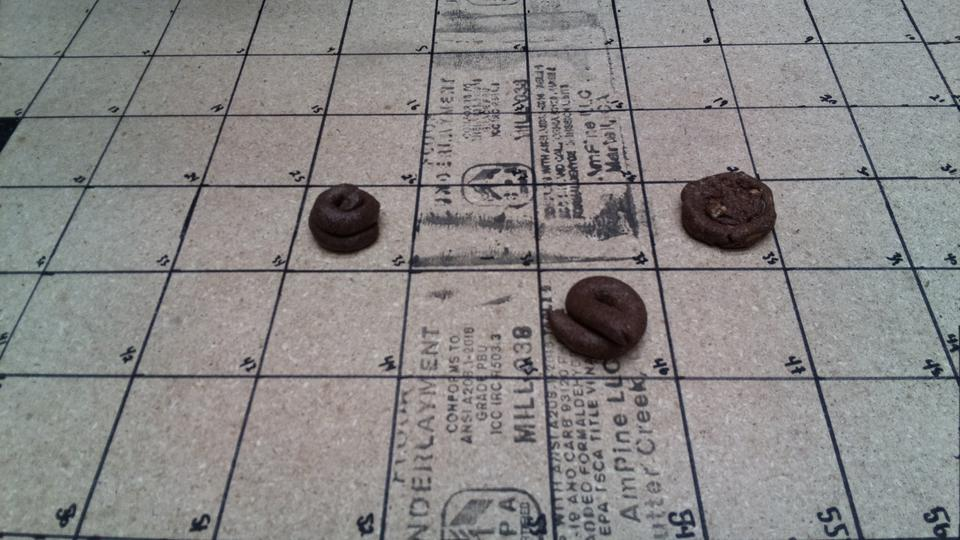poop: (547, 277, 647, 361), (681, 172, 775, 251), (310, 186, 382, 253)
